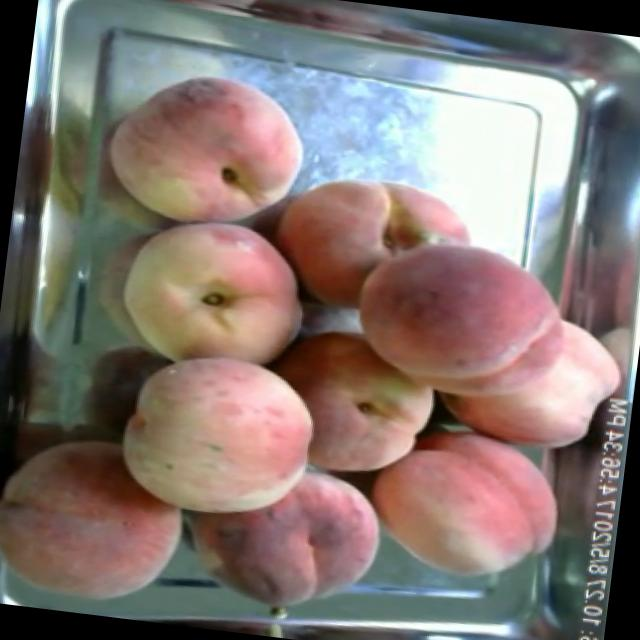Fruit: (131, 432, 404, 636), (330, 217, 587, 428), (92, 326, 336, 548), (0, 408, 211, 626), (89, 53, 318, 247), (99, 198, 324, 388), (352, 418, 575, 596), (254, 155, 488, 323), (247, 310, 456, 494)
